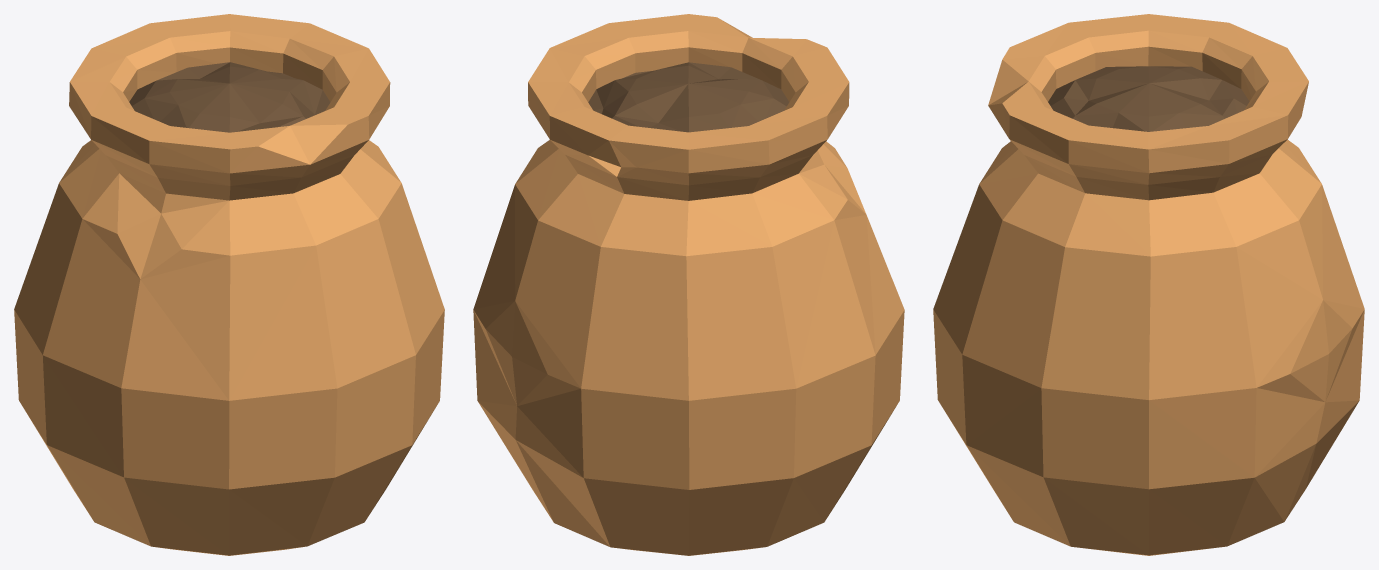
Rendered from SFHW_Vassel_014.fbx.
3 renders of one model, left to right at view 1: azimuth 30°, elevation 25°; view 2: azimuth 150°, elevation 25°; view 3: azimuth 270°, elevation 25°, orthographic.
Visible parts, largest first — view 1: SFHW_Vassel_014; view 2: SFHW_Vassel_014; view 3: SFHW_Vassel_014.
Part boxes in pixels (x1,y1,x2,y2): SFHW_Vassel_014: [14, 14, 444, 555]; SFHW_Vassel_014: [473, 14, 904, 555]; SFHW_Vassel_014: [933, 14, 1364, 555].
Size of the model in its own units: 33.9 by 37.14 by 33.92.
